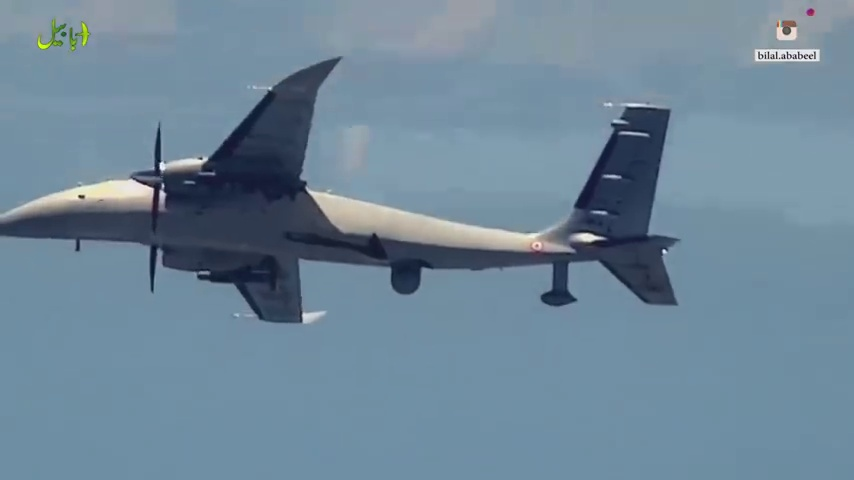military drone: (0, 55, 678, 324)
